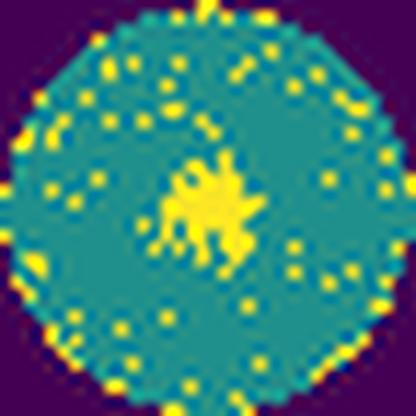Center: (160, 148, 258, 266)
